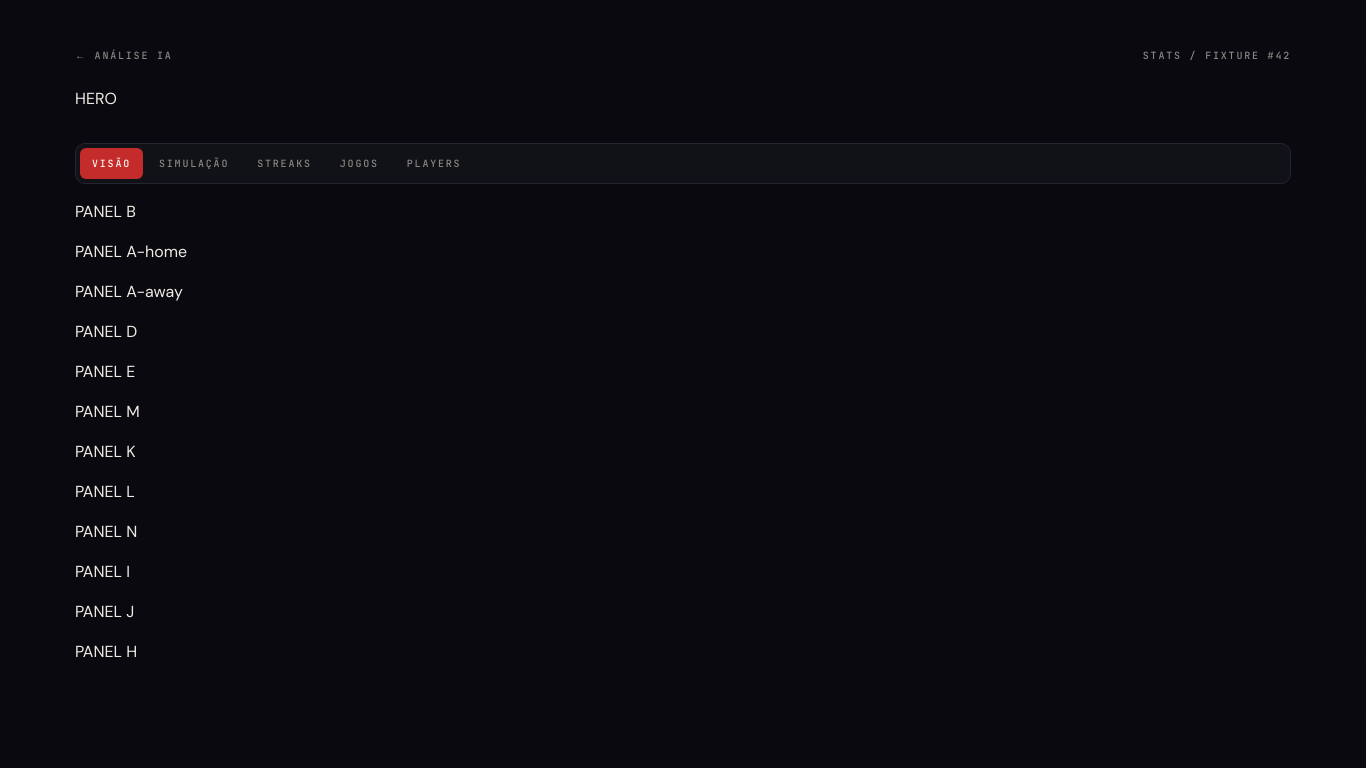
Test: StatsLayout — mobile tabs › clicking 'players' tab mounts the G+ panel
Step 1. Press the mouse on the tab "players" → (434,164), box [395, 148, 473, 179]
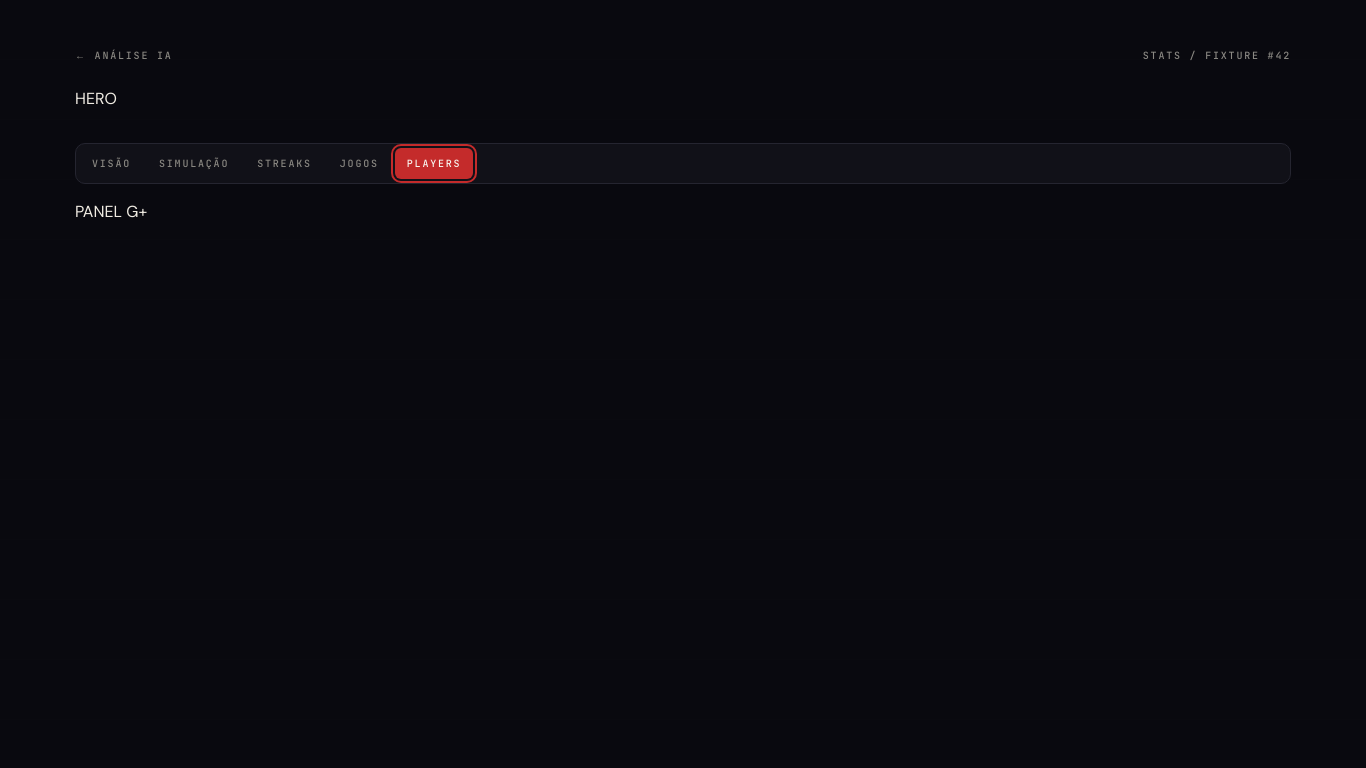
Result: the element showing "PANEL G+" is shown at [75, 201, 147, 222]
